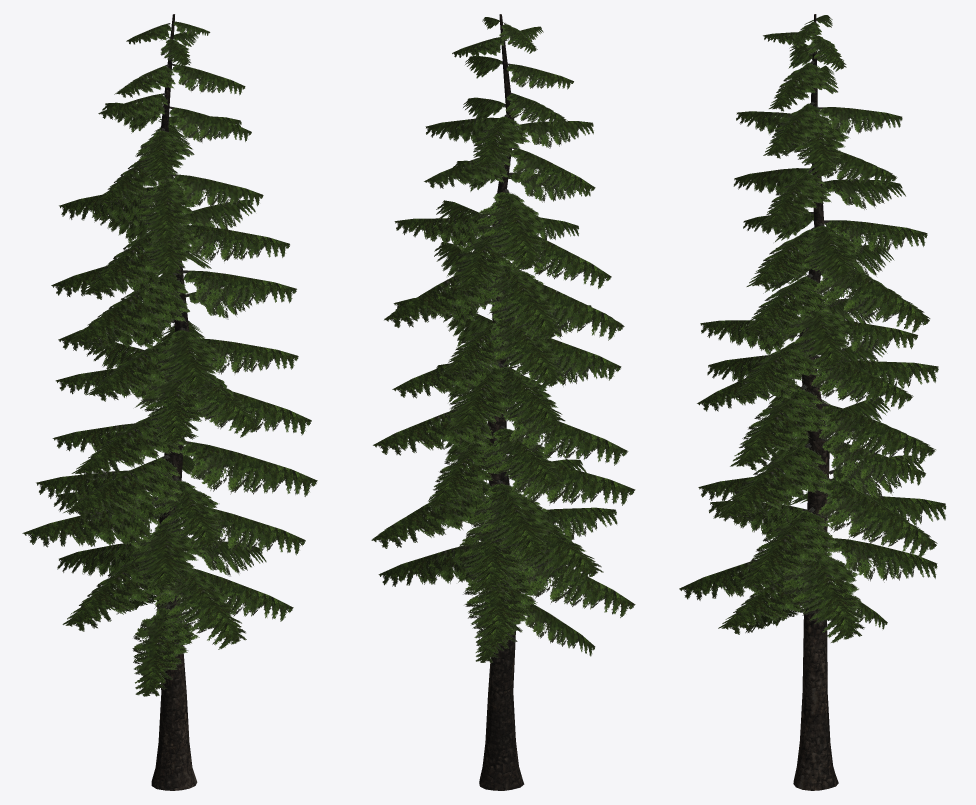
Rendered from tree_3.glb.
3 renders of one model, left to right at view 1: azimuth 30°, elevation 25°; view 2: azimuth 150°, elevation 25°; view 3: azimuth 270°, elevation 25°, orthographic.
Visible parts, largest first — view 1: tree_3_leaves, tree_3; view 2: tree_3_leaves, tree_3; view 3: tree_3_leaves, tree_3.
Boxes of the visible parts, x1,y1,x2,y2 form: tree_3_leaves: [22, 14, 317, 696]; tree_3: [151, 14, 197, 790]; tree_3_leaves: [371, 14, 635, 662]; tree_3: [479, 14, 524, 790]; tree_3_leaves: [679, 14, 946, 642]; tree_3: [793, 14, 838, 790].
Bounding box in the file's own units: 2.16 × 6.02 × 2.02.
2 materials, 2 textured.
